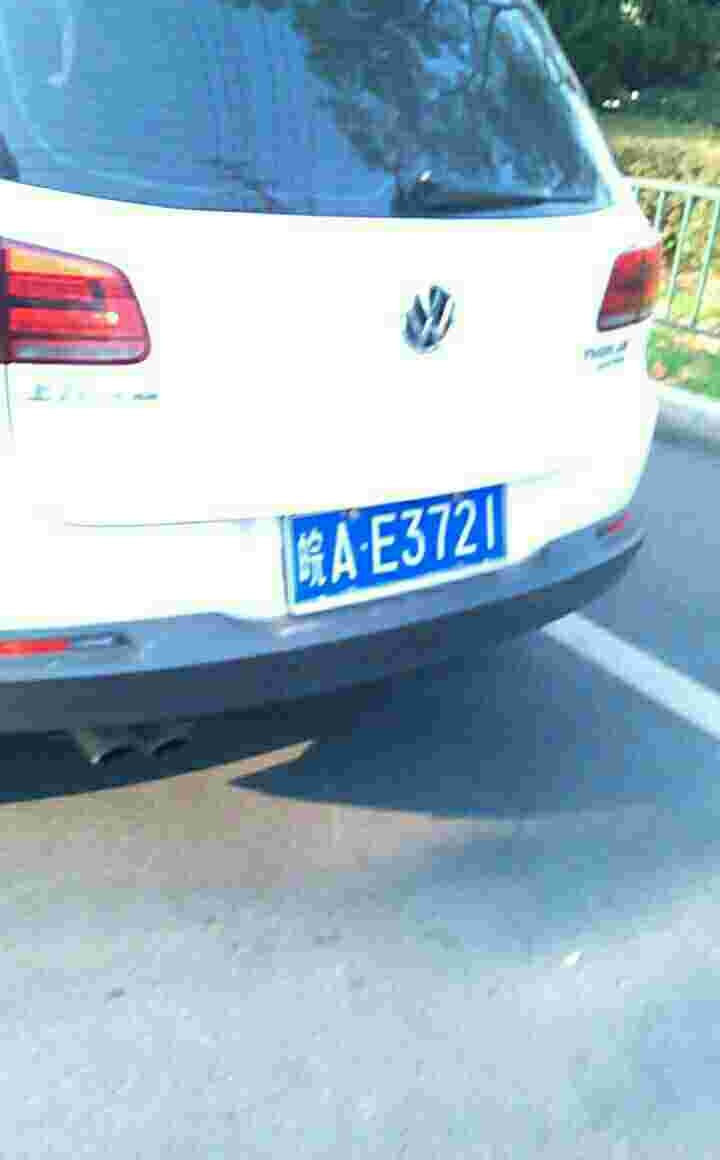license_plate: (282, 481, 516, 606)
